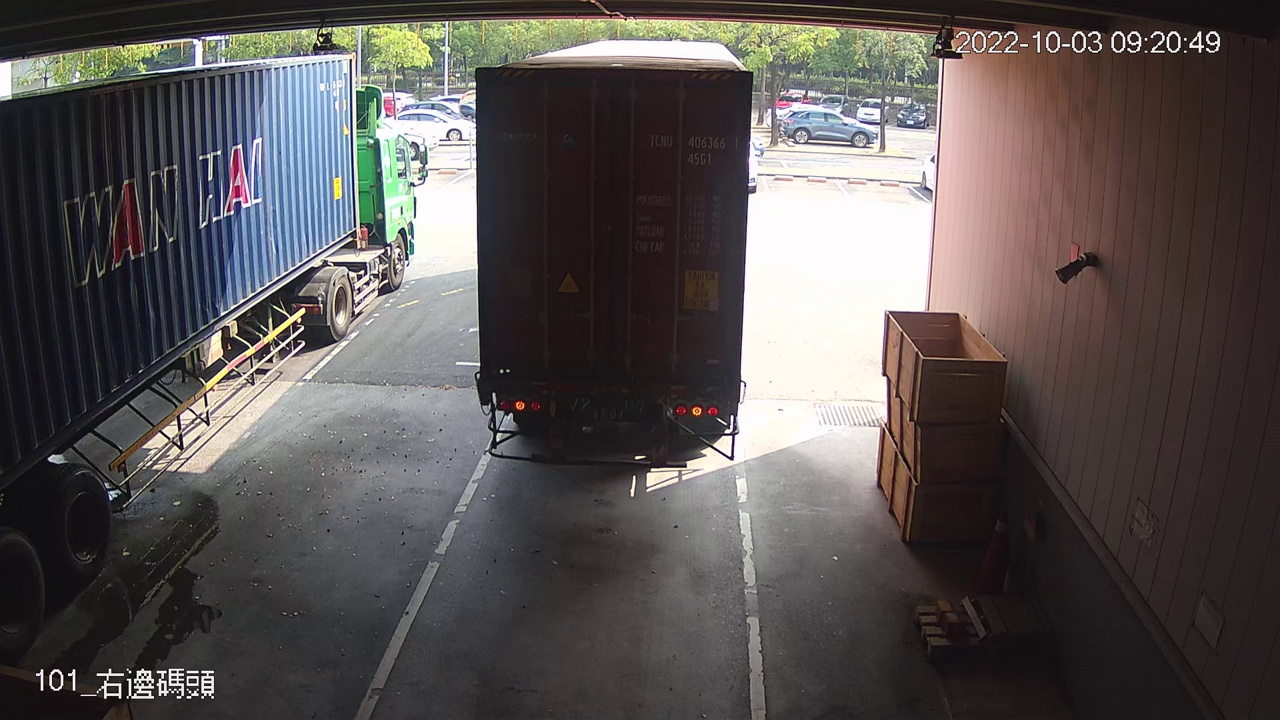container: (642, 126, 745, 171)
